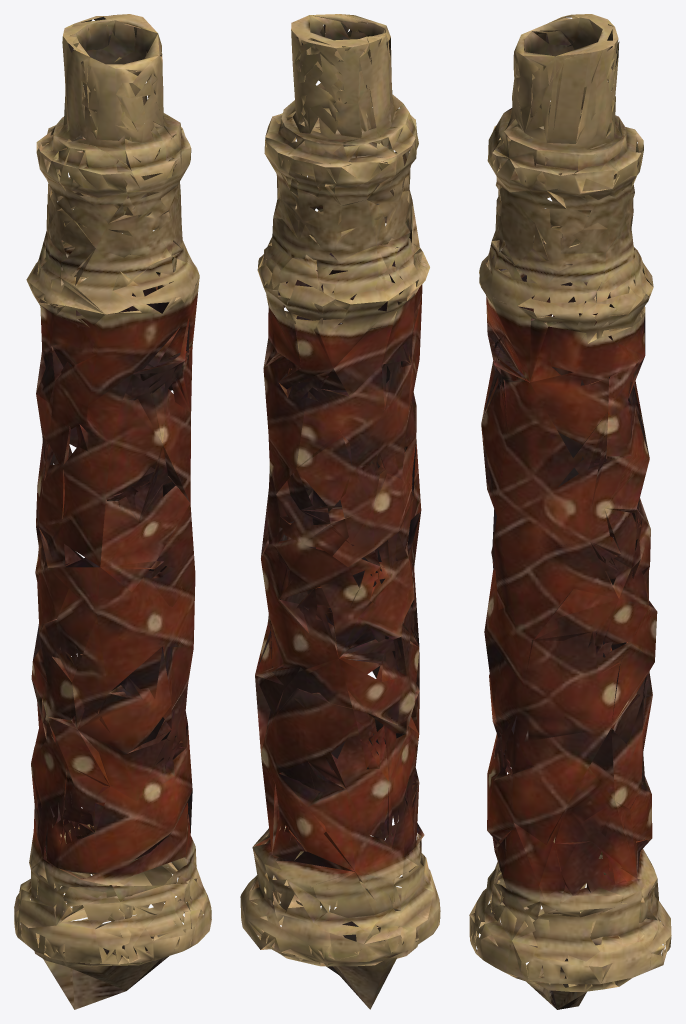
3 renders of one model, left to right at view 1: azimuth 30°, elevation 25°; view 2: azimuth 150°, elevation 25°; view 3: azimuth 270°, elevation 25°, orthographic.
Visible parts, largest first — view 1: steampunk_handle_leatherroyal_baked; view 2: steampunk_handle_leatherroyal_baked; view 3: steampunk_handle_leatherroyal_baked.
Boxes of the visible parts, <box> form: steampunk_handle_leatherroyal_baked: <box>14,14,211,1009</box>; steampunk_handle_leatherroyal_baked: <box>240,14,440,1009</box>; steampunk_handle_leatherroyal_baked: <box>469,14,671,1009</box>.
Size of the model in its own units: 0.0334 by 0.1816 by 0.0336.
Materials: 1 (1 with a texture image).
